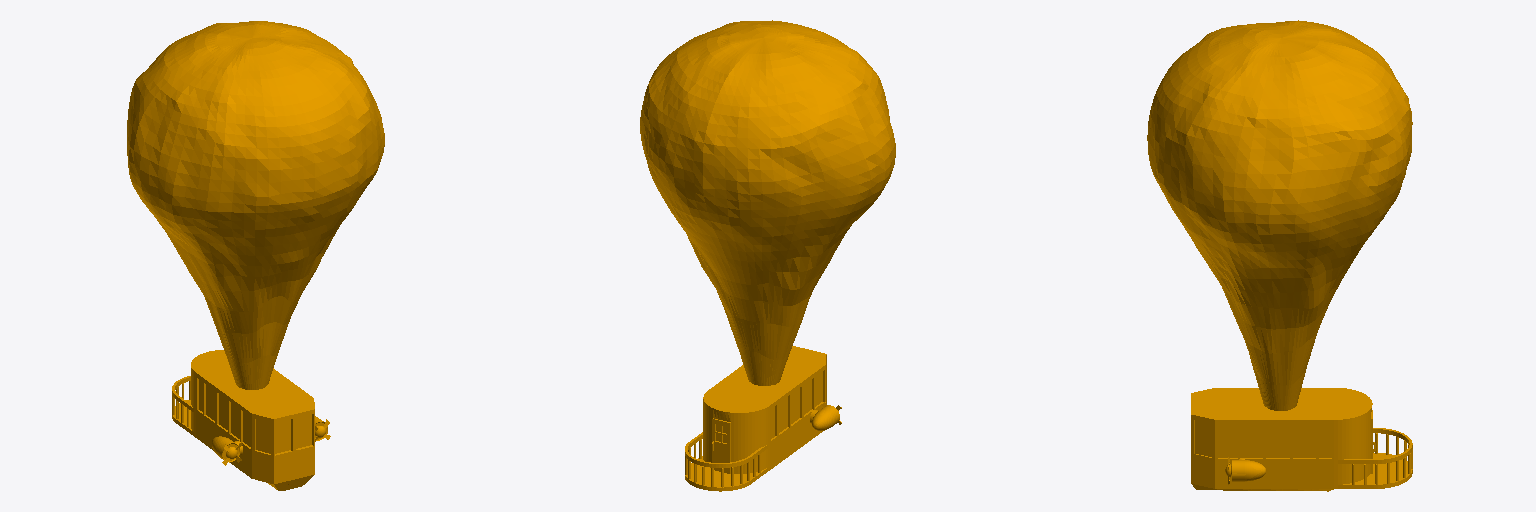
The robot description file, URDF, robot "HotAirBalloon":
<?xml version='1.0'?>

<robot name="HotAirBalloon" xmlns:xacro="http://www.ros.org/wiki/xacro">

    <link name="Center">
        <inertial>
            <origin xyz="0.0 0.0 0.0" rpy="0.0 0.0 0.0"/>
            <mass value="50.0"/>
        </inertial>
        <visual>
            <origin xyz="0.0 0.0 0.0" rpy="0.0 0.0 0.0"/>
            <geometry>
                <mesh filename="hot_air_balloon.stl" scale="0.001 0.001 0.001"/>
            </geometry>
            <color rgba="1.0 0.0 0.0 0.8"/>
        </visual>
    </link>
</robot>

--- Facts derived from the render (not from the file) ---
Views: 3 orthographic renders of the robot side by side, from view 1: azimuth 30°, elevation 25°; view 2: azimuth 150°, elevation 25°; view 3: azimuth 270°, elevation 25°.
Robot: HotAirBalloon — 1 links, 0 joints (none); root link Center; default pose: every joint at zero.
Visible links, largest first — view 1: Center; view 2: Center; view 3: Center.
Boxes of the visible links, x1,y1,x2,y2 form: Center: (127,21,384,490); Center: (640,20,895,491); Center: (1147,20,1412,491).
Bounding box of the posed robot: 0.0526 × 0.0486 × 0.0906 m (x, y, z).
Meshes: 1 distinct files referenced, 1 mesh visuals loaded (1 binary STL).